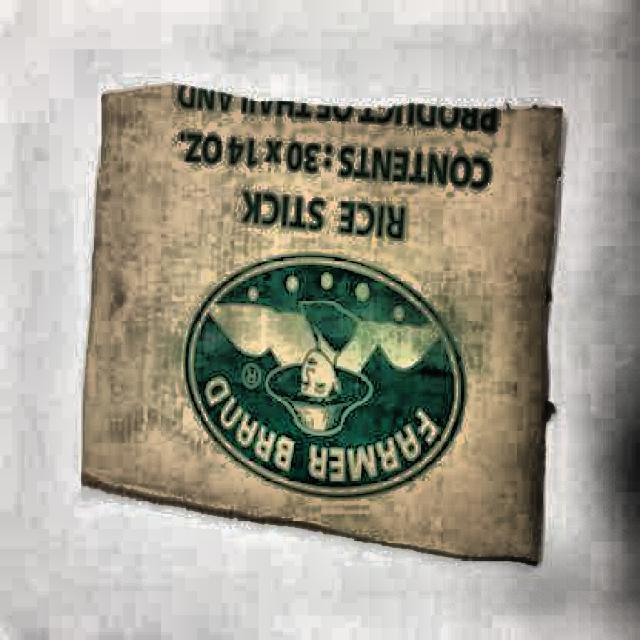Cardbox: (28, 49, 568, 595)
